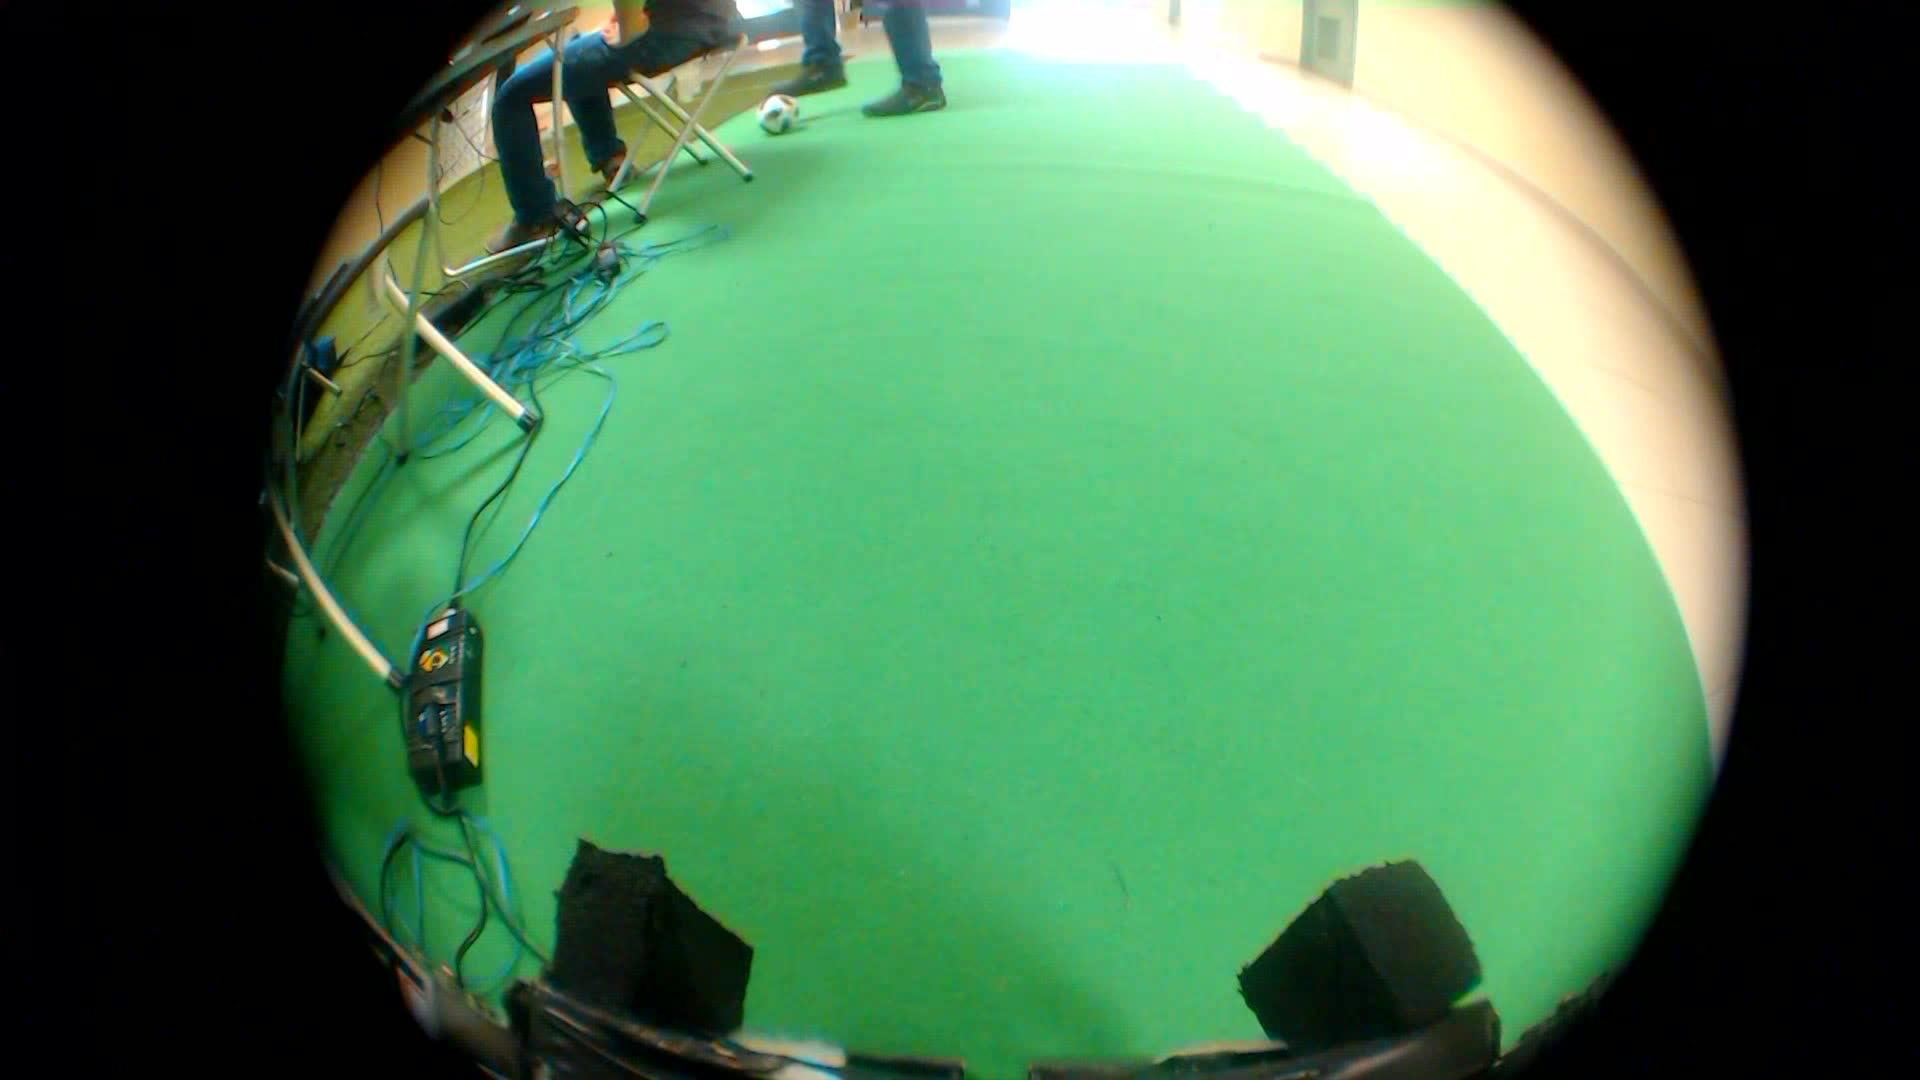ball: (744, 88, 800, 146)
